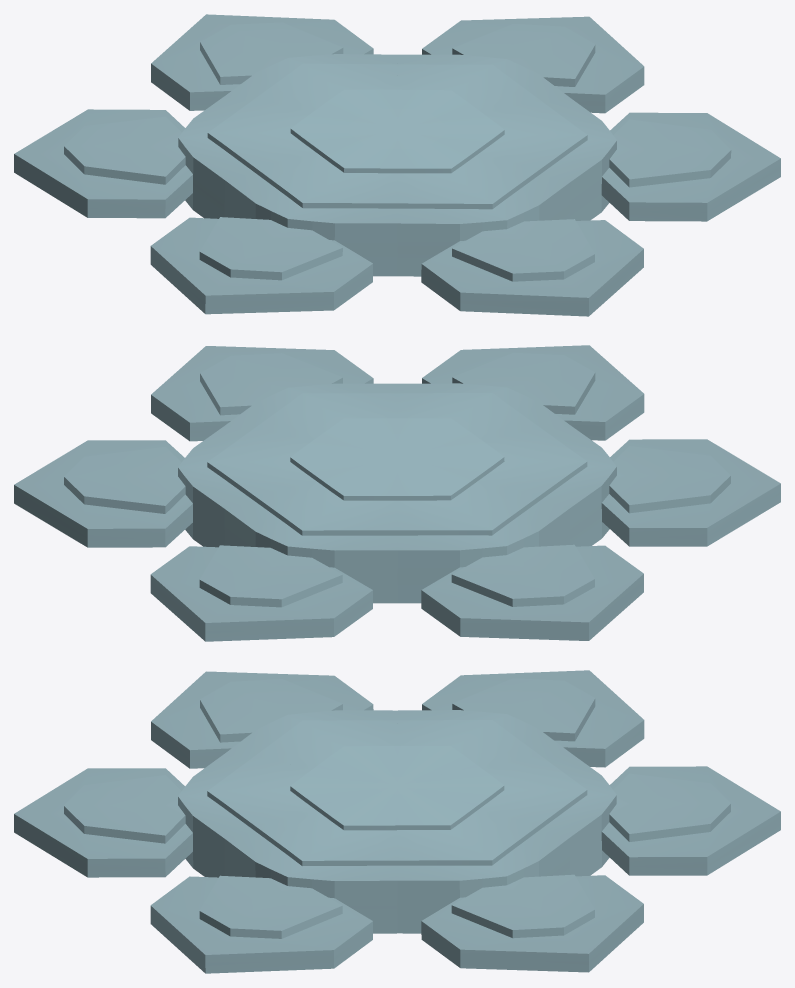
File: geology-crystals-snowflake_v3.glb
The picture shows the model from 3 angles, top to bottom: view 1: azimuth 30°, elevation 25°; view 2: azimuth 150°, elevation 25°; view 3: azimuth 270°, elevation 25°; orthographic projection.
Visible parts, largest first — view 1: Snowflake_v3; view 2: Snowflake_v3; view 3: Snowflake_v3.
Part boxes in pixels (bbox=[...]): Snowflake_v3: bbox=[14, 14, 780, 316]; Snowflake_v3: bbox=[14, 345, 780, 641]; Snowflake_v3: bbox=[14, 670, 780, 973].
Bounding box in the file's own units: 9.01 × 1.1 × 10.39.
